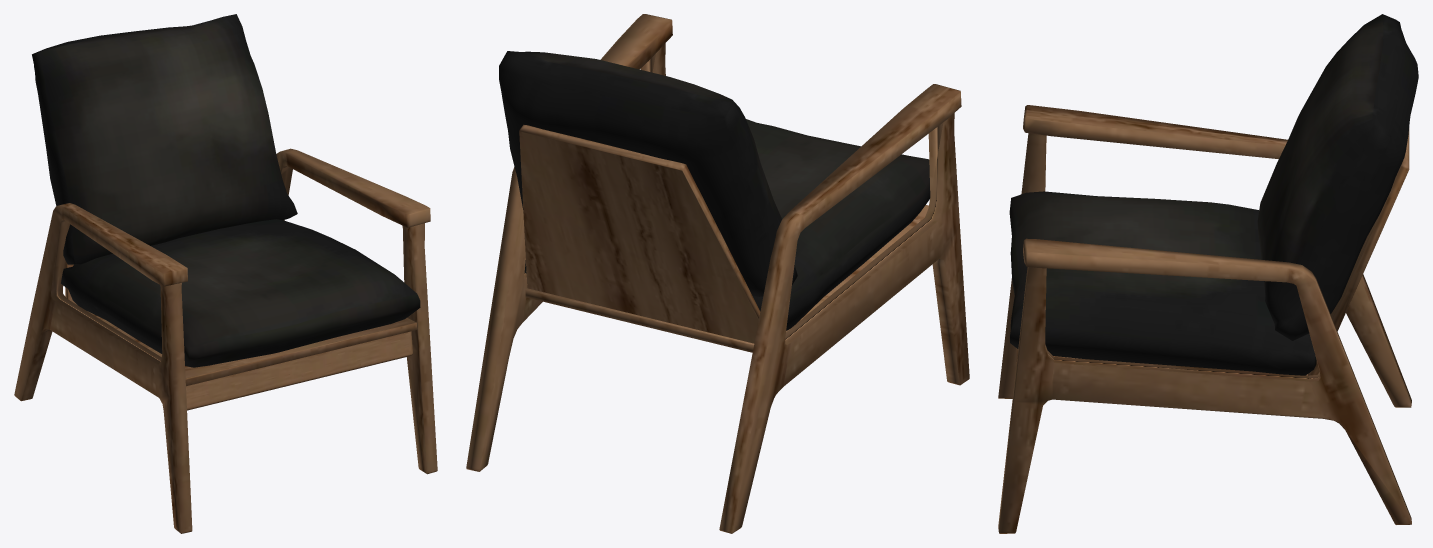
File: chair01.glb
The picture shows the model from 3 angles, left to right: view 1: azimuth 30°, elevation 25°; view 2: azimuth 150°, elevation 25°; view 3: azimuth 270°, elevation 25°; orthographic projection. The views are drawn at different scales.
Visible parts, largest first — view 1: modern_arm_chair_01; view 2: modern_arm_chair_01; view 3: modern_arm_chair_01.
Boxes of the visible parts, x1,y1,x2,y2 form: modern_arm_chair_01: (14,14,437,533); modern_arm_chair_01: (466,14,969,533); modern_arm_chair_01: (998,14,1418,533).
Bounding box in the file's own units: 0.8192 × 1.02 × 0.9863.
2 materials, 2 textured.
